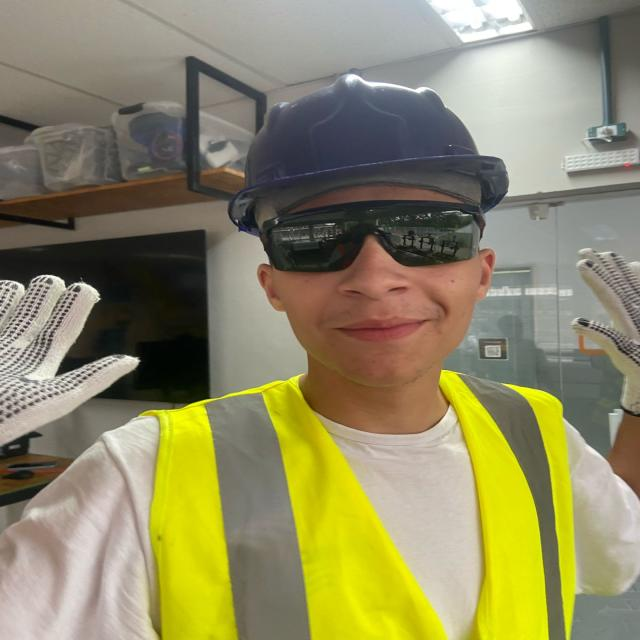CAPACETE: (227, 74, 505, 235)
COLETE: (142, 370, 572, 637)
LUVA: (0, 273, 139, 463), (571, 248, 639, 413)
OCULOS: (256, 204, 489, 277)
